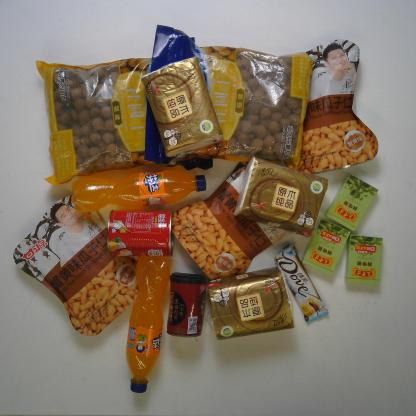Candy: (324, 174, 380, 232), (300, 218, 351, 276), (343, 233, 384, 286)
Canned Food: (107, 209, 174, 258), (165, 271, 207, 339)
Chocolate: (274, 243, 330, 324)
Dried Food: (35, 36, 215, 188), (144, 23, 314, 172)
Dried Fruit: (12, 194, 139, 338), (171, 160, 287, 283), (283, 38, 379, 176)
Drink: (70, 163, 207, 214), (124, 254, 172, 395)
Tissue: (140, 54, 225, 158), (232, 154, 328, 239), (206, 265, 295, 341)
